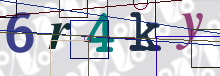4: (86, 11, 115, 53)
6: (6, 11, 35, 54)
k: (129, 11, 161, 52)
r: (48, 21, 72, 50)
y: (175, 12, 204, 51)
